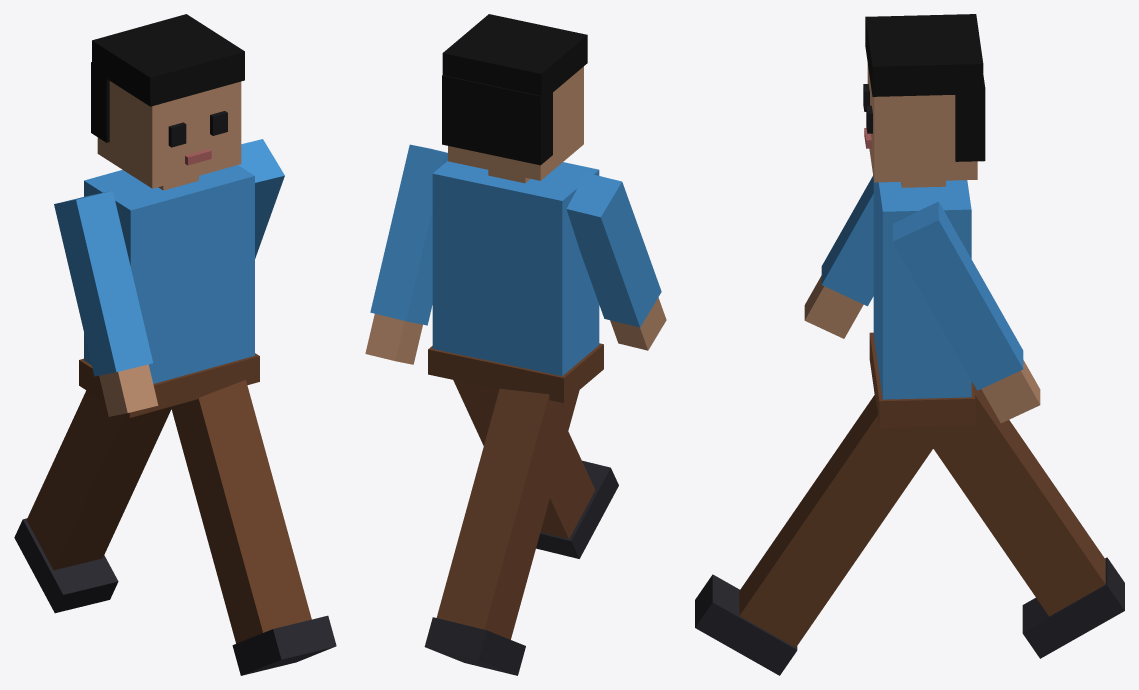
File: person_c.glb
The picture shows the model from 3 angles, left to right: view 1: azimuth 30°, elevation 25°; view 2: azimuth 150°, elevation 25°; view 3: azimuth 270°, elevation 25°; orthographic projection. The views are drawn at different scales.
Parts seen in each view (by area): view 1: gh_person_c__body, gh_person_c__leg_r, gh_person_c__leg_l, gh_person_c__arm_l, gh_person_c__arm_r; view 2: gh_person_c__body, gh_person_c__leg_l, gh_person_c__arm_l, gh_person_c__arm_r, gh_person_c__leg_r; view 3: gh_person_c__body, gh_person_c__leg_r, gh_person_c__leg_l, gh_person_c__arm_r, gh_person_c__arm_l.
Boxes of the visible parts, x1,y1,x2,y2 form: gh_person_c__body: (79, 14, 259, 417); gh_person_c__leg_r: (171, 380, 336, 675); gh_person_c__leg_l: (14, 390, 172, 613); gh_person_c__arm_l: (54, 191, 158, 416); gh_person_c__arm_r: (238, 139, 284, 258); gh_person_c__body: (428, 14, 603, 403); gh_person_c__leg_l: (424, 388, 579, 675); gh_person_c__arm_l: (566, 173, 666, 350); gh_person_c__arm_r: (365, 144, 447, 364); gh_person_c__leg_r: (453, 380, 618, 558); gh_person_c__body: (863, 14, 985, 427); gh_person_c__leg_r: (695, 395, 948, 675); gh_person_c__leg_l: (933, 384, 1124, 658); gh_person_c__arm_r: (892, 201, 1040, 423); gh_person_c__arm_l: (804, 175, 873, 338).
Size of the model in its own units: 0.66 by 1.85 by 1.16.
